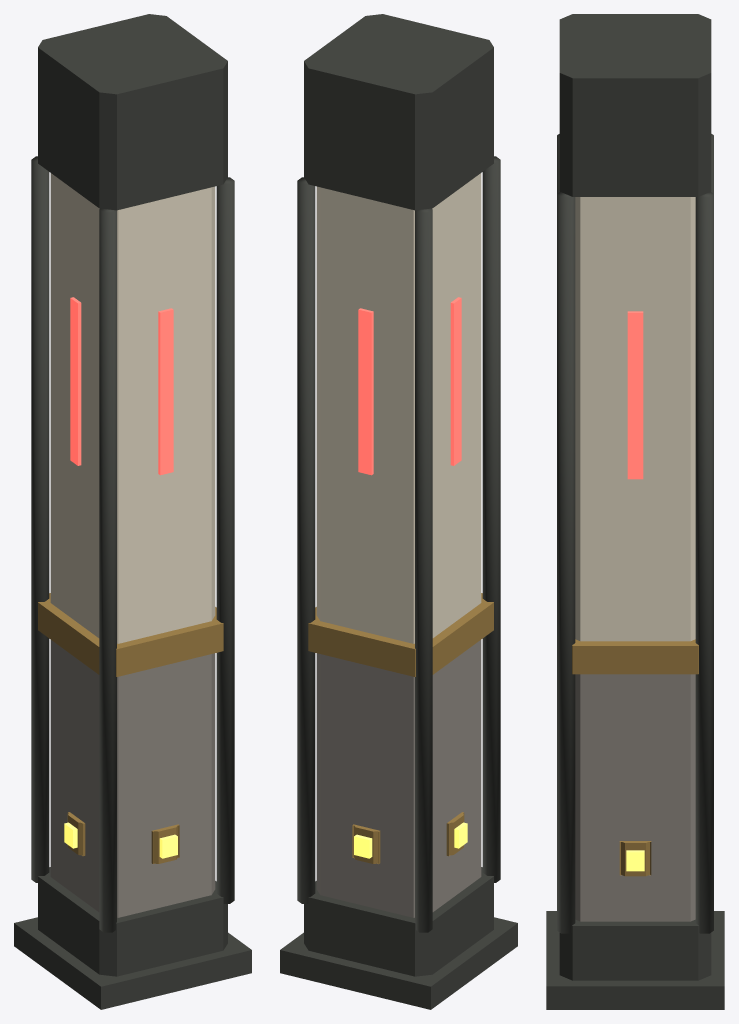
File: b2_pillar.glb
The picture shows the model from 3 angles, left to right: view 1: azimuth 30°, elevation 25°; view 2: azimuth 150°, elevation 25°; view 3: azimuth 270°, elevation 25°; orthographic projection. The views are drawn at different scales.
Visible parts, largest first — view 1: b2_pillar; view 2: b2_pillar; view 3: b2_pillar.
Part boxes in pixels (x1=…): b2_pillar: x1=14, y1=14, x2=251, y2=1009; b2_pillar: x1=280, y1=14, x2=517, y2=1009; b2_pillar: x1=546, y1=14, x2=724, y2=1009.
Size of the model in its own units: 0.68 by 3.9 by 0.68.
